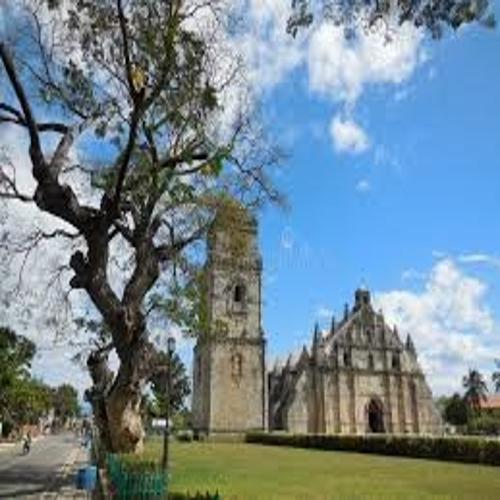Paoay Church: (183, 186, 452, 452)
